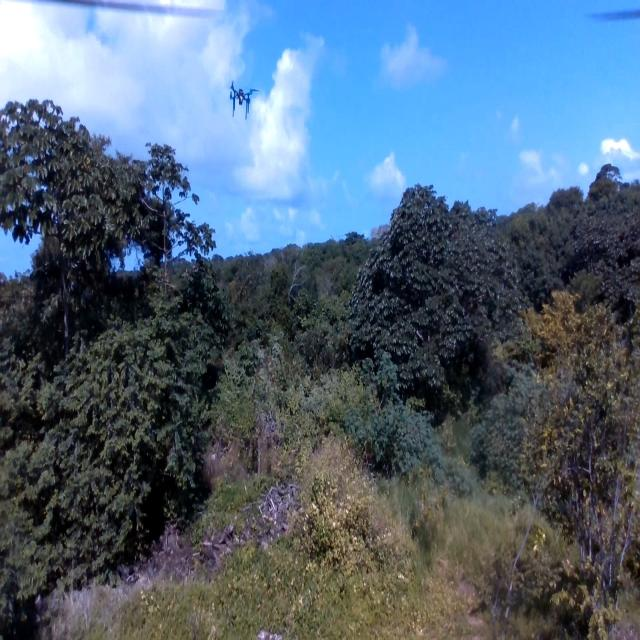-uav-: (224, 68, 262, 133)
